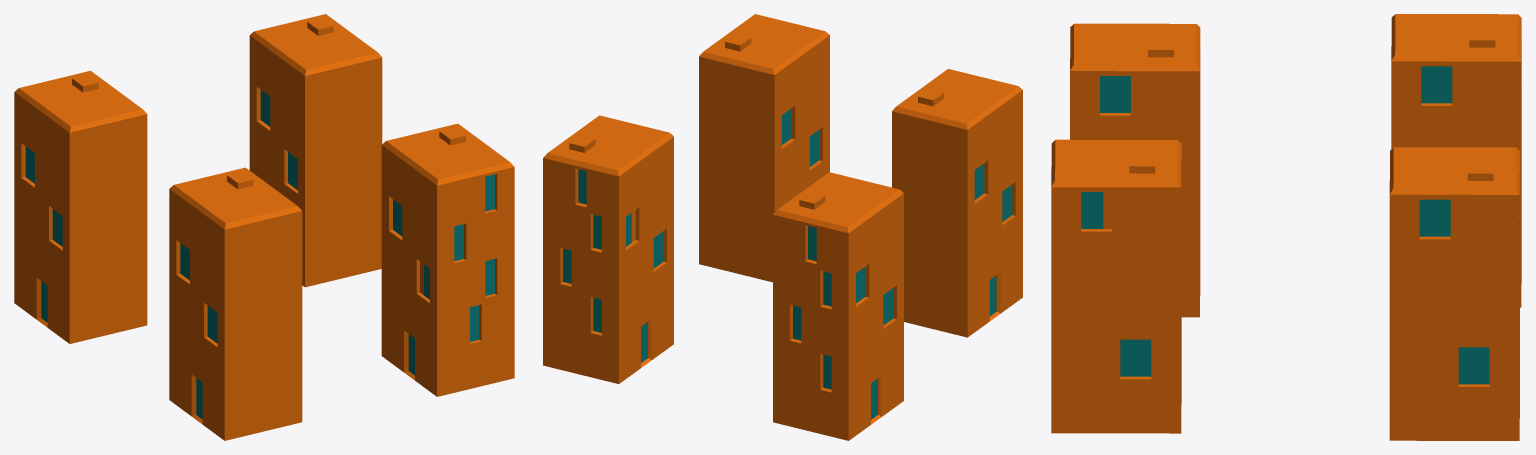
The model's file is Structure.fbx.
3 renders of one model, left to right at view 1: azimuth 30°, elevation 25°; view 2: azimuth 150°, elevation 25°; view 3: azimuth 270°, elevation 25°, orthographic. The views are drawn at different scales.
Parts seen in each view (by area): view 1: Box078; view 2: Box078; view 3: Box078.
Boxes of the visible parts, bbox=[...] form: Box078: bbox=[14, 14, 514, 440]; Box078: bbox=[543, 14, 1022, 440]; Box078: bbox=[1051, 14, 1521, 440].
Bounding box in the file's own units: 454 × 509 × 309.
